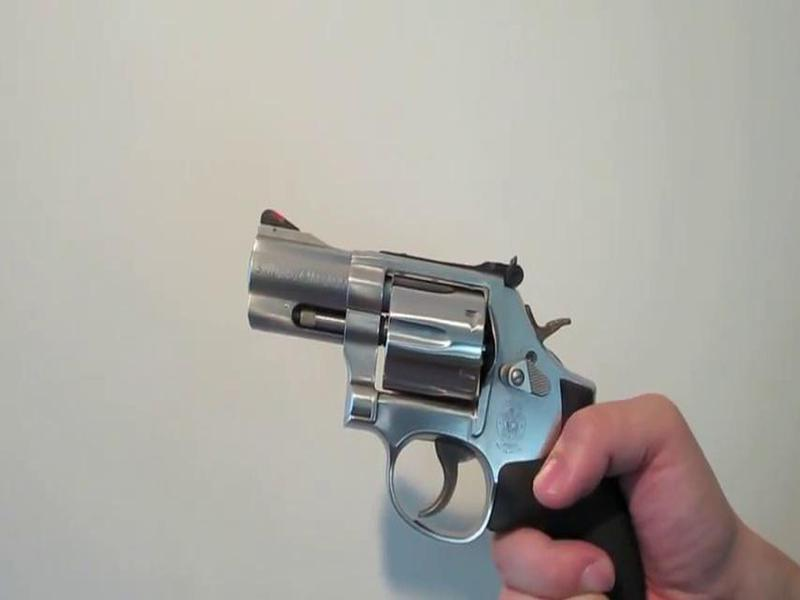Revolver: (225, 186, 632, 558)
